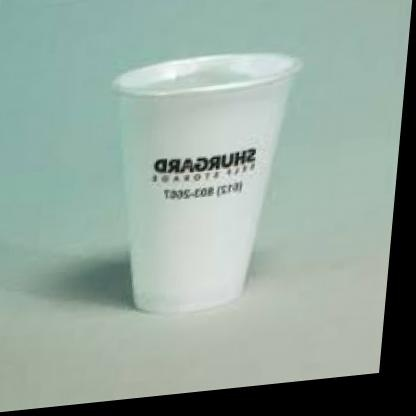trash: (113, 53, 300, 312)
